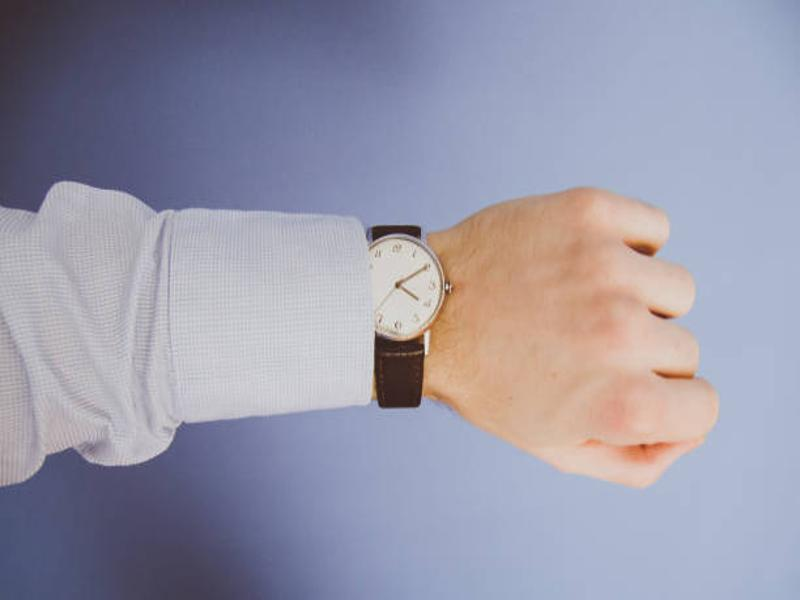watch: (364, 224, 453, 410)
